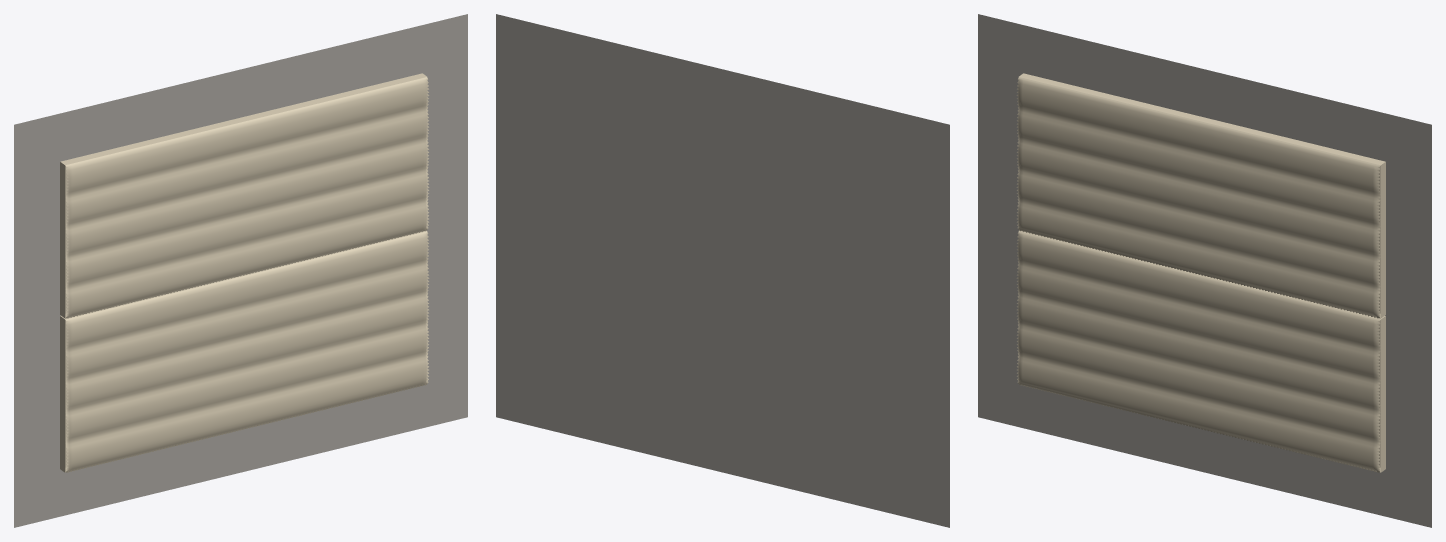
File: terilgan.glb
3 views of the same model, side by side, from view 1: azimuth 30°, elevation 25°; view 2: azimuth 150°, elevation 25°; view 3: azimuth 330°, elevation 25° (orthographic).
Parts seen in each view (by area): view 1: Plane, t1_0, t0_0; view 2: Plane; view 3: Plane, t1_0, t0_0.
Part boxes in pixels (x1,y1,x2,y2): Plane: (14, 14, 467, 527); t1_0: (60, 73, 429, 318); t0_0: (60, 230, 429, 472); Plane: (496, 14, 949, 527); Plane: (978, 14, 1431, 527); t1_0: (1016, 73, 1385, 318); t0_0: (1016, 230, 1385, 472).
Size of the model in its own units: 1.5 by 1.28 by 0.0418.
